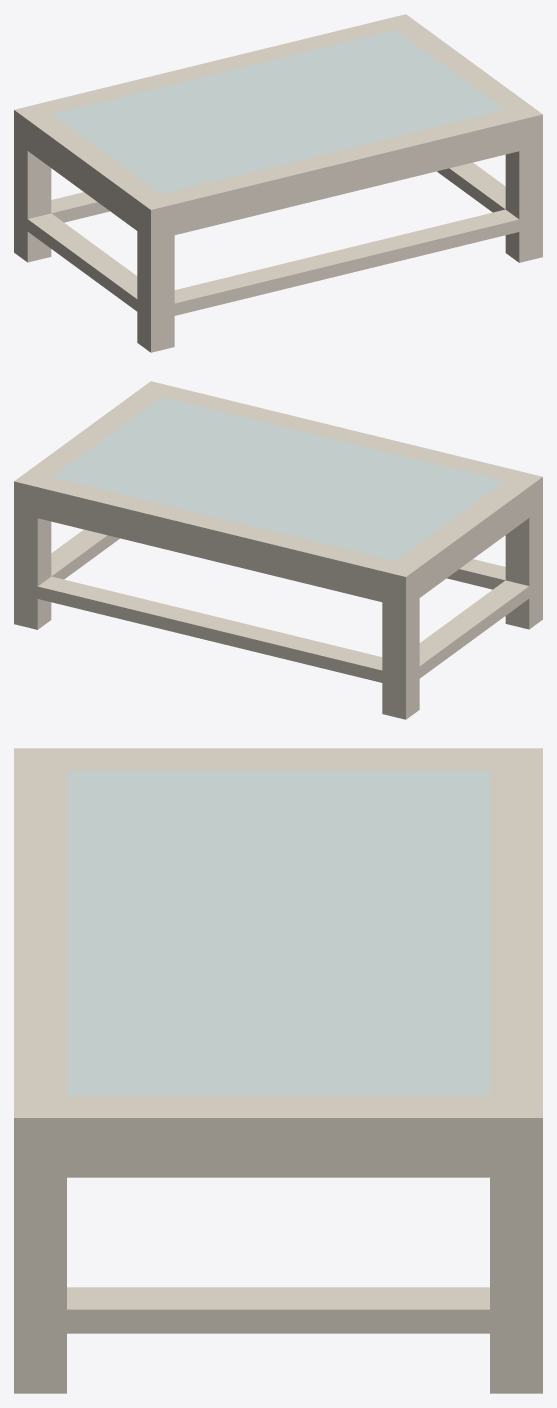
File: kitTableCoffeeGlass.glb
The picture shows the model from 3 angles, top to bottom: view 1: azimuth 30°, elevation 25°; view 2: azimuth 150°, elevation 25°; view 3: azimuth 270°, elevation 25°; orthographic projection. The views are drawn at different scales.
Parts seen in each view (by area): view 1: kitTableCoffeeGlass_metal, kitTableCoffeeGlass_glass; view 2: kitTableCoffeeGlass_metal, kitTableCoffeeGlass_glass; view 3: kitTableCoffeeGlass_glass, kitTableCoffeeGlass_metal.
Boxes of the visible parts, left/top/right/bottom form: kitTableCoffeeGlass_metal: left=14, top=14, right=542, bottom=352; kitTableCoffeeGlass_glass: left=52, top=30, right=505, bottom=193; kitTableCoffeeGlass_metal: left=14, top=381, right=542, bottom=719; kitTableCoffeeGlass_glass: left=51, top=397, right=504, bottom=560; kitTableCoffeeGlass_glass: left=67, top=770, right=489, bottom=1095; kitTableCoffeeGlass_metal: left=14, top=748, right=542, bottom=1393.
Bounding box in the file's own units: 1.32 × 0.46 × 0.8.
